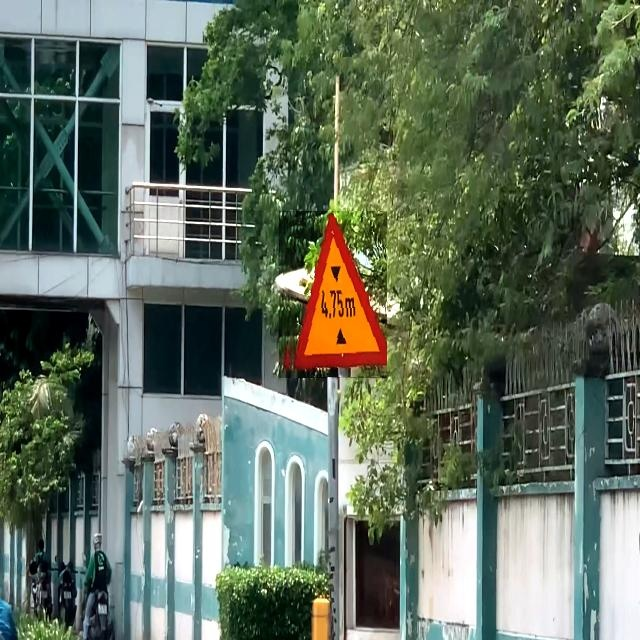bien_nguy_hiem: (279, 211, 387, 378)
